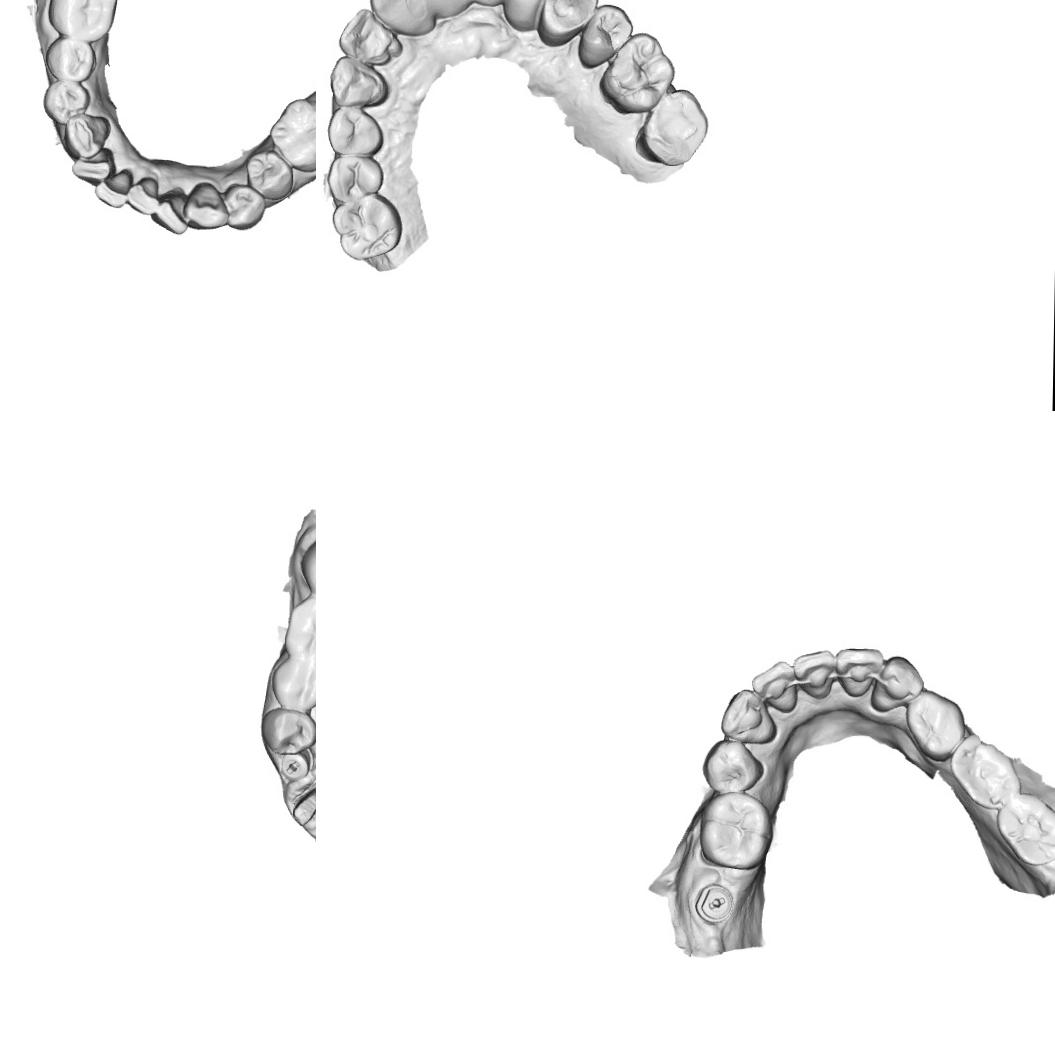canine: (718, 687, 778, 745), (870, 654, 923, 718), (329, 55, 390, 108), (182, 180, 231, 230), (62, 112, 112, 160), (502, 0, 553, 32)
crown: (286, 781, 316, 827)
implant_minus: (692, 882, 740, 926), (274, 749, 313, 782)
incisor: (338, 8, 404, 66), (749, 658, 801, 714), (833, 644, 885, 699), (368, 0, 437, 39), (791, 646, 834, 702), (150, 186, 189, 236), (92, 166, 136, 209), (71, 144, 117, 185), (126, 174, 161, 218), (409, 0, 462, 16)
molar: (599, 31, 676, 115), (696, 791, 773, 872), (635, 88, 709, 167), (948, 734, 1024, 810), (330, 192, 404, 262), (993, 790, 1055, 867), (267, 96, 316, 174), (46, 0, 120, 42), (280, 592, 316, 666), (296, 526, 316, 605)
premolar: (902, 688, 966, 762), (701, 737, 768, 795), (577, 3, 634, 70), (257, 705, 316, 757), (536, 0, 599, 48), (326, 106, 384, 156), (326, 154, 384, 203), (243, 148, 295, 201), (267, 658, 316, 713), (43, 35, 98, 83), (40, 80, 92, 127), (221, 182, 267, 232)
